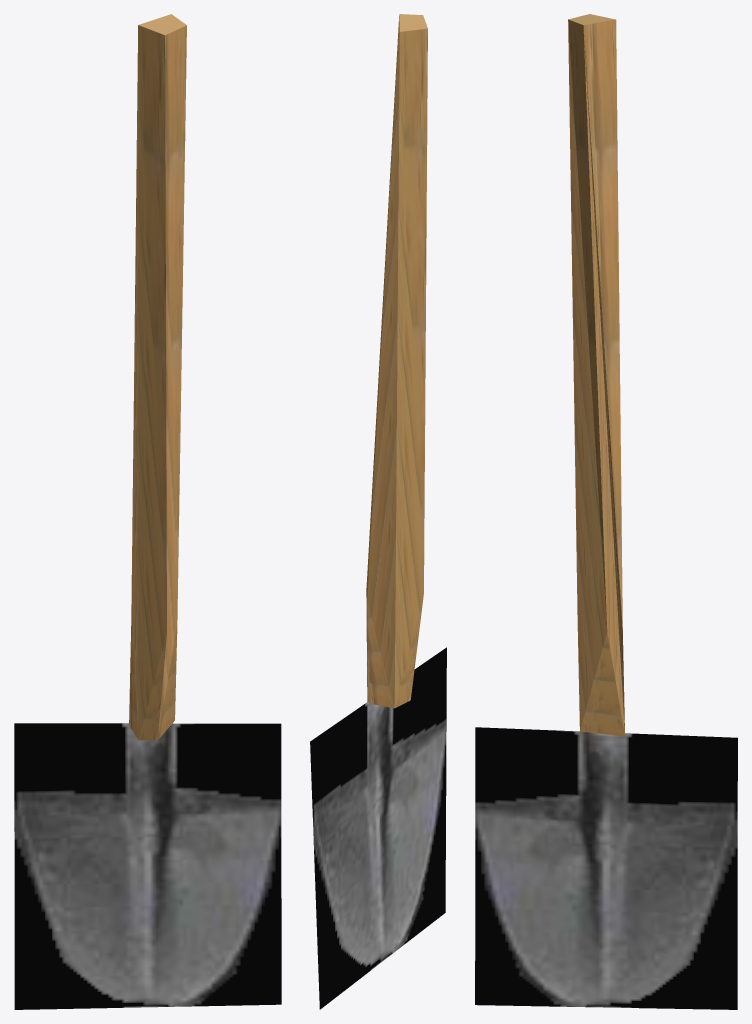
The model's file is shovel.glb.
The picture shows the model from 3 angles, left to right: view 1: azimuth 90°, elevation 25°; view 2: azimuth 150°, elevation 25°; view 3: azimuth 270°, elevation 25°; orthographic projection. The views are drawn at different scales.
Visible parts, largest first — view 1: Plane, Cylinder; view 2: Plane, Cylinder; view 3: Plane, Cylinder.
Boxes of the visible parts, <box> form: Plane: <box>14,723,281,1009</box>; Cylinder: <box>129,14,186,740</box>; Plane: <box>310,647,446,1009</box>; Cylinder: <box>366,14,427,708</box>; Plane: <box>475,727,737,1009</box>; Cylinder: <box>568,14,624,736</box>.
Bounding box in the file's own units: 0.2608 × 4.42 × 1.07.
2 materials, 2 textured.
